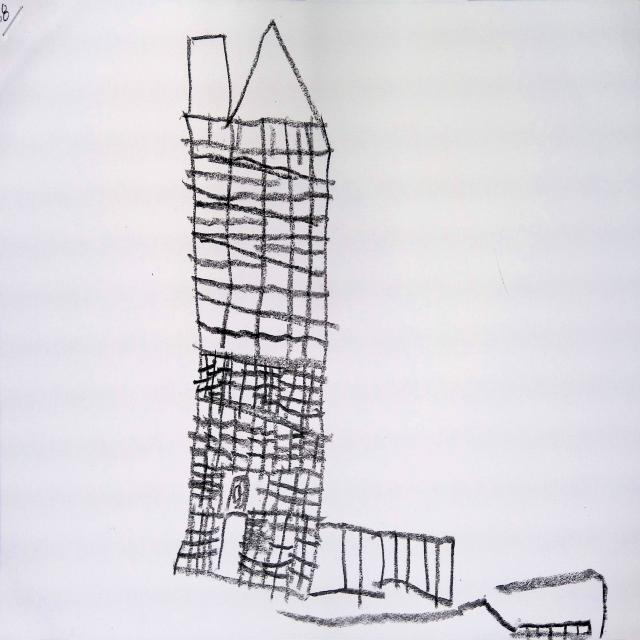chimney: (188, 35, 234, 117)
door: (215, 516, 247, 587)
house: (175, 20, 333, 597)
roof: (238, 34, 311, 119)
wall: (174, 115, 329, 600)
window: (223, 475, 265, 515)
